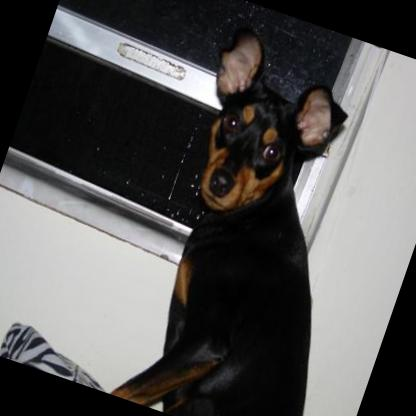miniature_pinscher: (102, 15, 416, 416)
